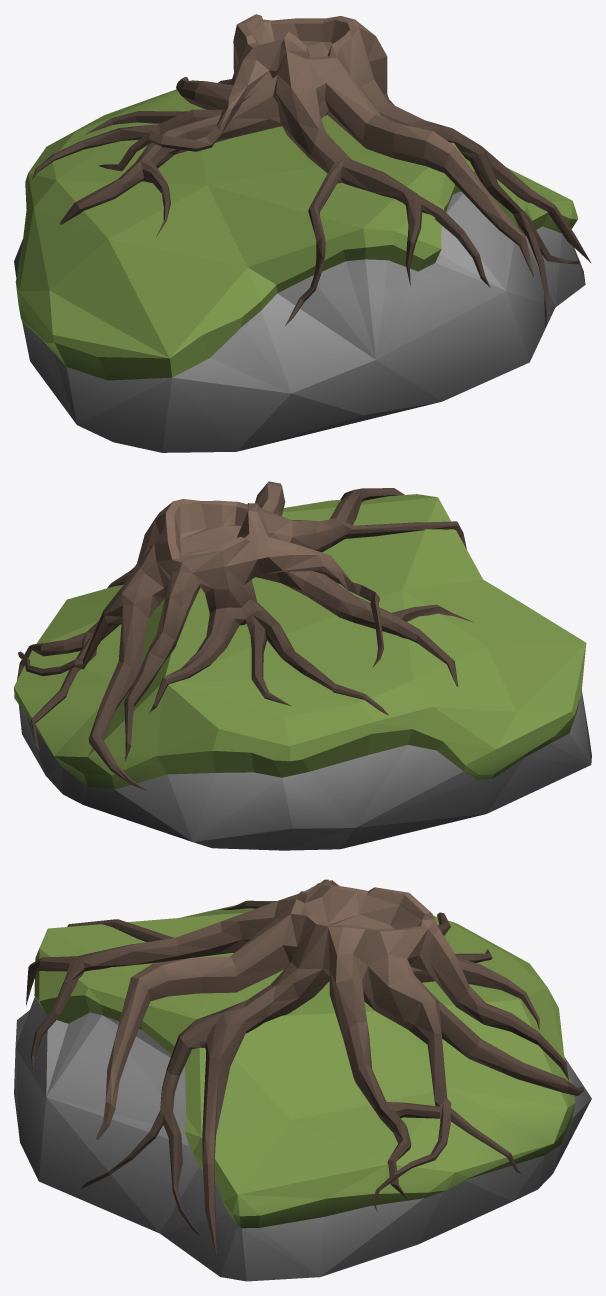
Rendered from Jungle_RootsRock_A.fbx.
3 renders of one model, top to bottom at view 1: azimuth 30°, elevation 25°; view 2: azimuth 150°, elevation 25°; view 3: azimuth 270°, elevation 25°, orthographic. The views are drawn at different scales.
Visible parts, largest first — view 1: Jungle_RootsRock_A; view 2: Jungle_RootsRock_A; view 3: Jungle_RootsRock_A.
Boxes of the visible parts, x1,y1,x2,y2 form: Jungle_RootsRock_A: [14, 14, 591, 452]; Jungle_RootsRock_A: [14, 481, 591, 850]; Jungle_RootsRock_A: [14, 879, 591, 1281].
Bounding box in the file's own units: 8.11 × 3.89 × 7.33.
1 material, 1 textured.
